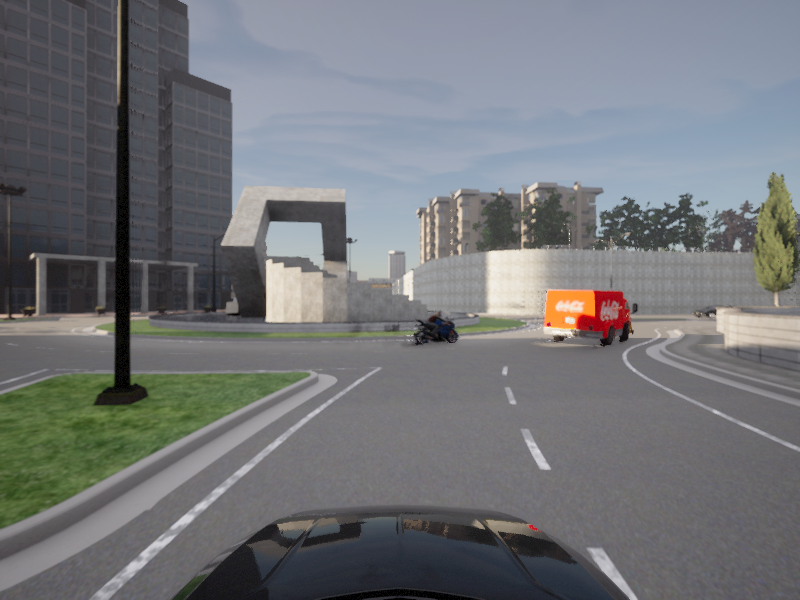vehicle: (539, 289, 642, 350), (410, 311, 463, 347)
